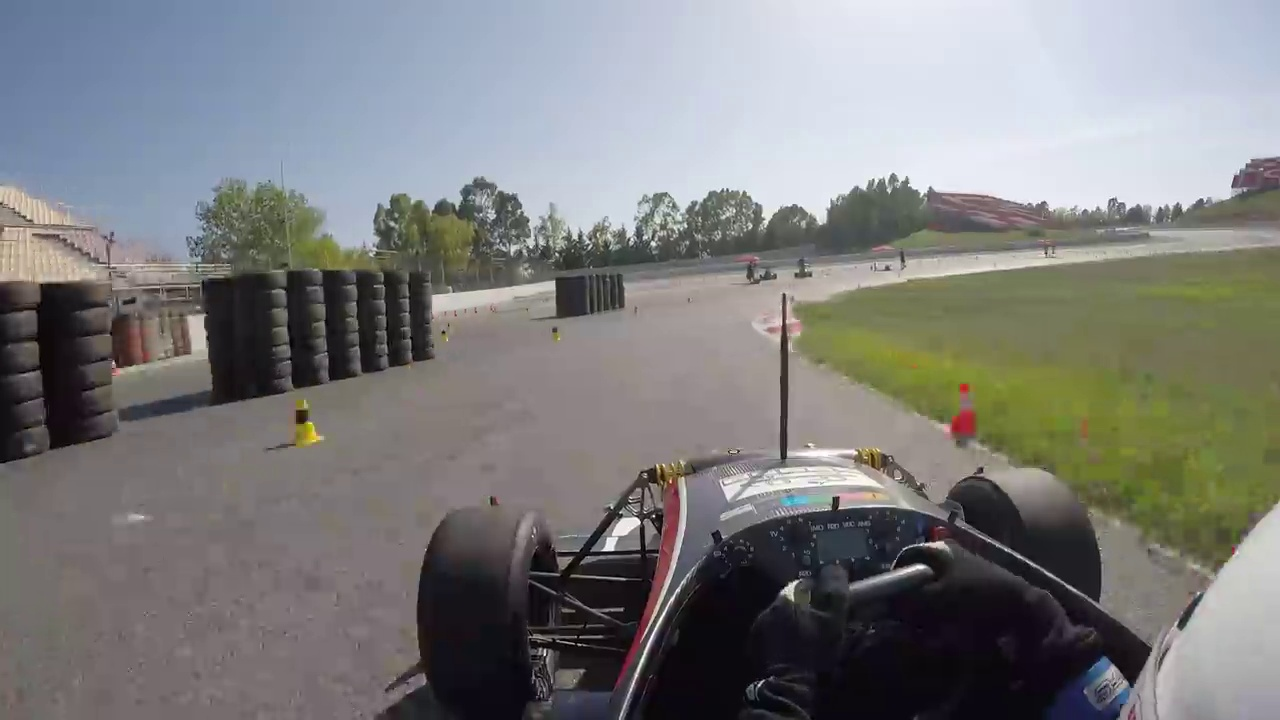Cone: (949, 381, 985, 445), (288, 398, 329, 452)
